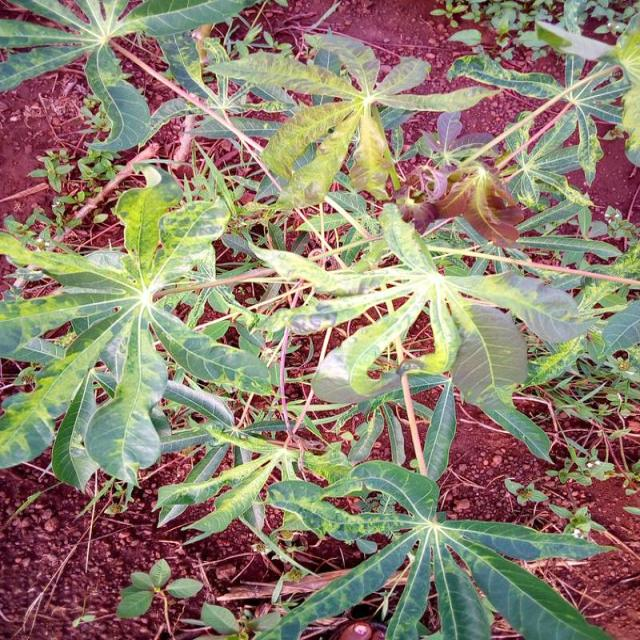cassava leaf: (0, 2, 638, 637), (0, 162, 268, 494)
